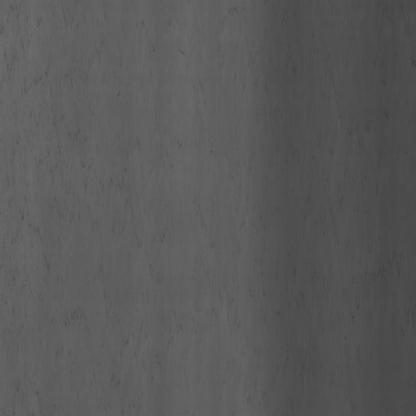silk_spot: (19, 48, 152, 327)
